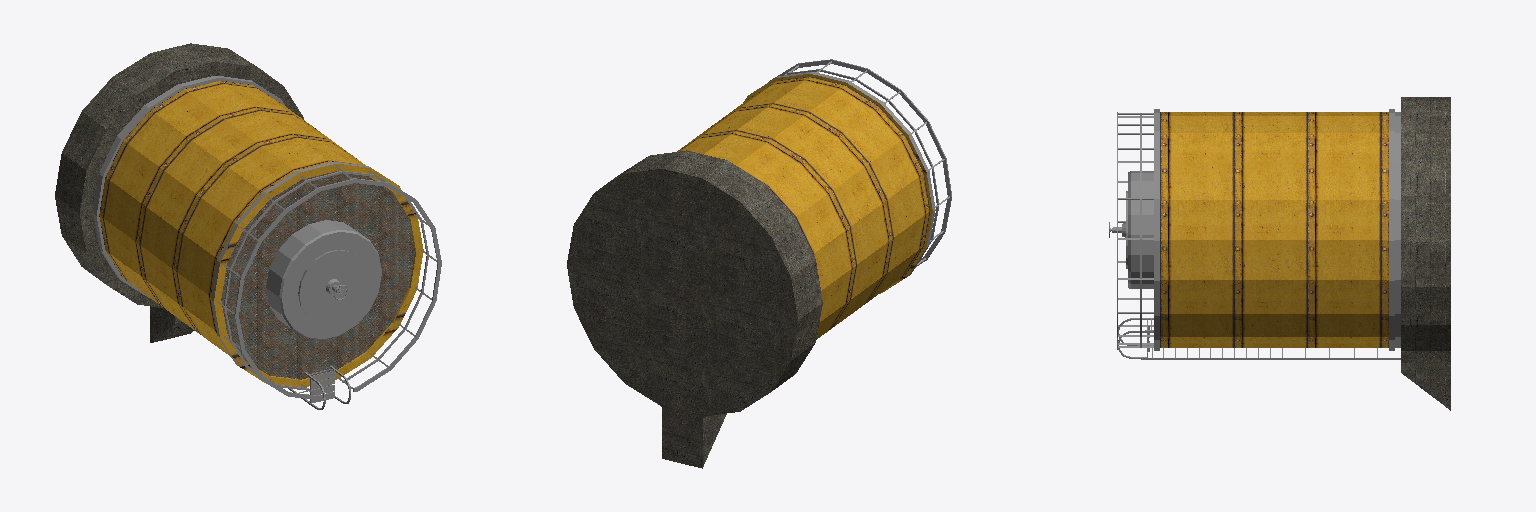
3 renders of one model, left to right at view 1: azimuth 30°, elevation 25°; view 2: azimuth 150°, elevation 25°; view 3: azimuth 270°, elevation 25°, orthographic.
Parts seen in each view (by area): view 1: MDL_Objec4, MDL_Objec2; view 2: MDL_Objec4, MDL_Objec2; view 3: MDL_Objec4, MDL_Objec2.
Part boxes in pixels (left/top/right/bottom): MDL_Objec4: left=55, top=43, right=423, bottom=387; MDL_Objec2: left=217, top=166, right=441, bottom=409; MDL_Objec4: left=567, top=72, right=935, bottom=468; MDL_Objec2: left=769, top=59, right=951, bottom=266; MDL_Objec4: left=1122, top=97, right=1450, bottom=410; MDL_Objec2: left=1109, top=112, right=1400, bottom=359.
Size of the model in its own units: 6.3 by 7.55 by 8.06.
Materials: 4 (3 with a texture image).